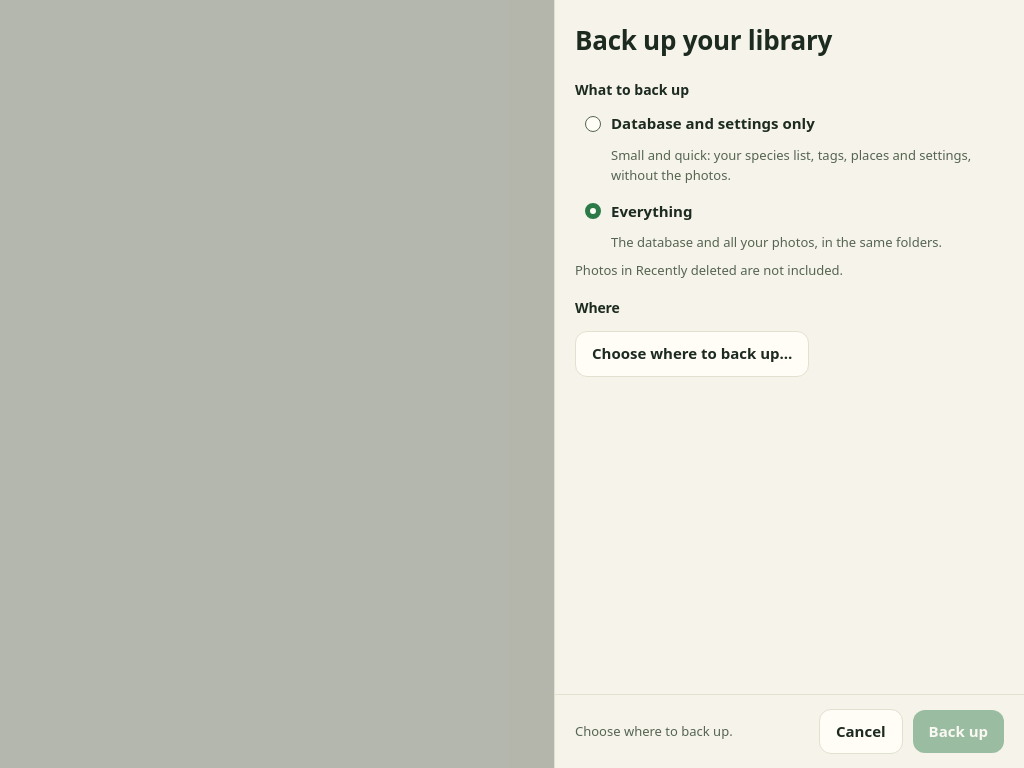
Test: changing the choice checks again and the space line follows; an older answer arriving late is dropped
The width and height of the screenshot is (1024, 768).
What coordinates should you click on to do the following:
click the button "Choose where to back up…"
I would click on:
 (692, 354)
Its box is [575, 331, 809, 377].
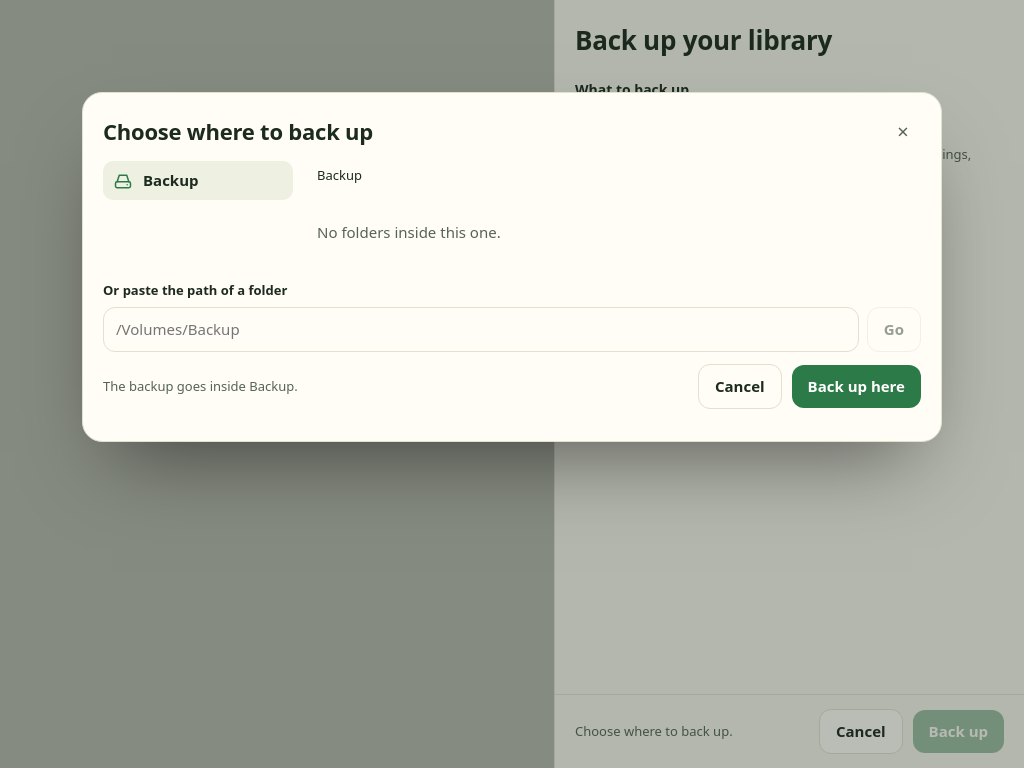
What coordinates should you click on to do the following:
click the button "Back up here"
I would click on:
 (856, 387)
Its box is [792, 365, 921, 408].
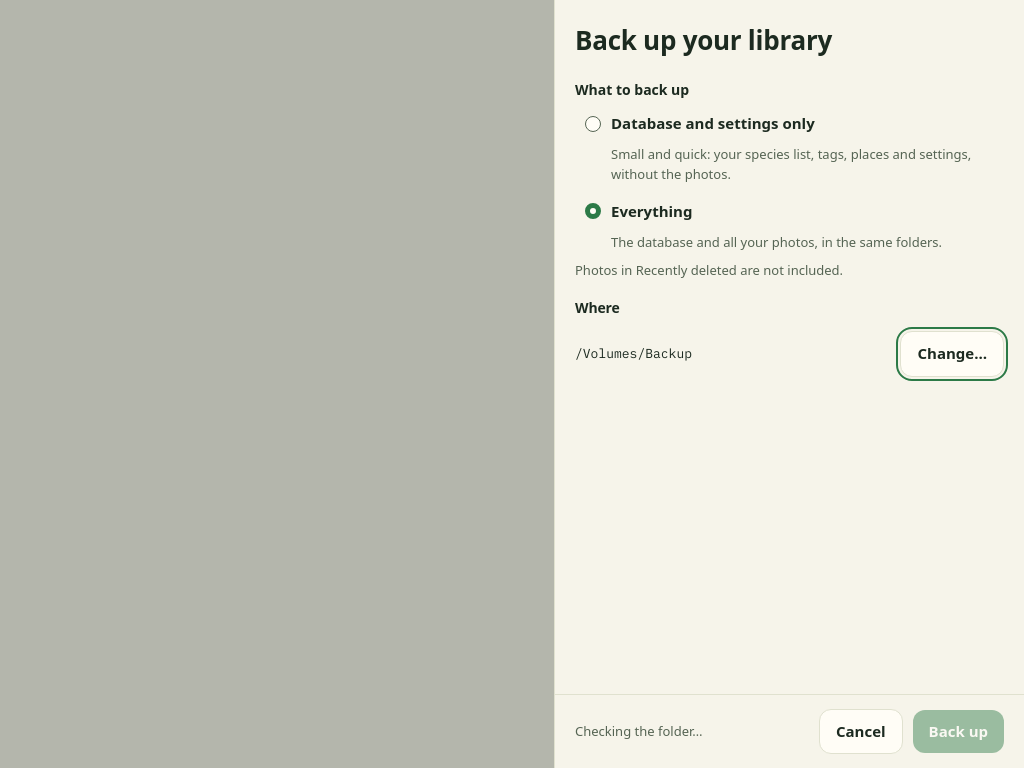
Expected: the text "/Volumes/Backup" is shown, [575, 345, 692, 362]
What coordinates should you click on to do the following:
click the radio button labelled "Database and settings only"
I would click on:
 (593, 124)
Its box is [585, 116, 601, 132].
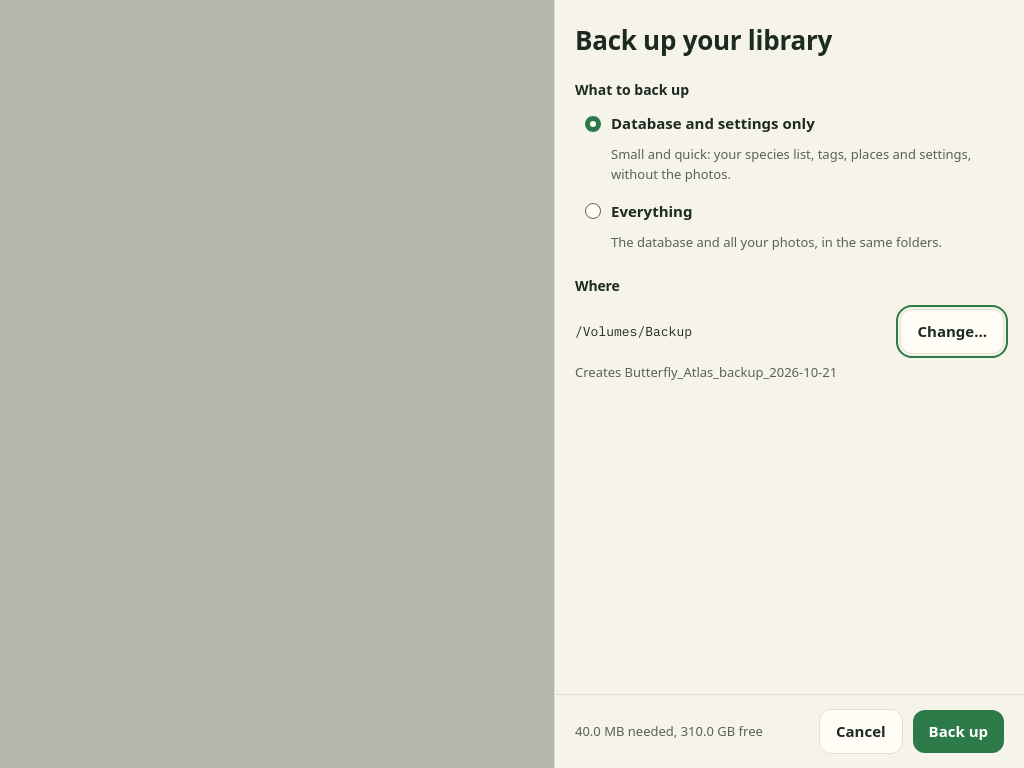
Expected: the text "40.0 MB needed, 310.0 GB free" is shown, [575, 722, 763, 740]
